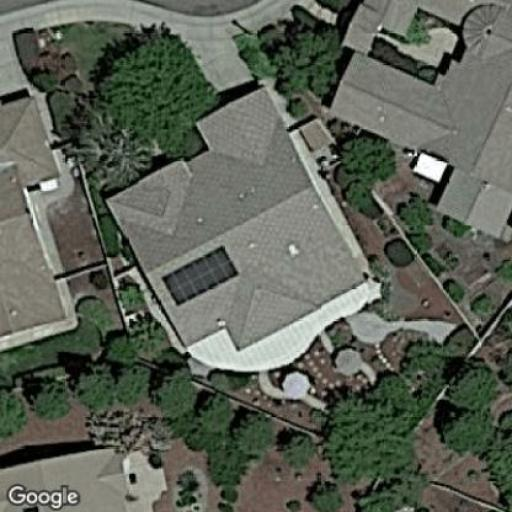solar-panel: (158, 242, 241, 308)
